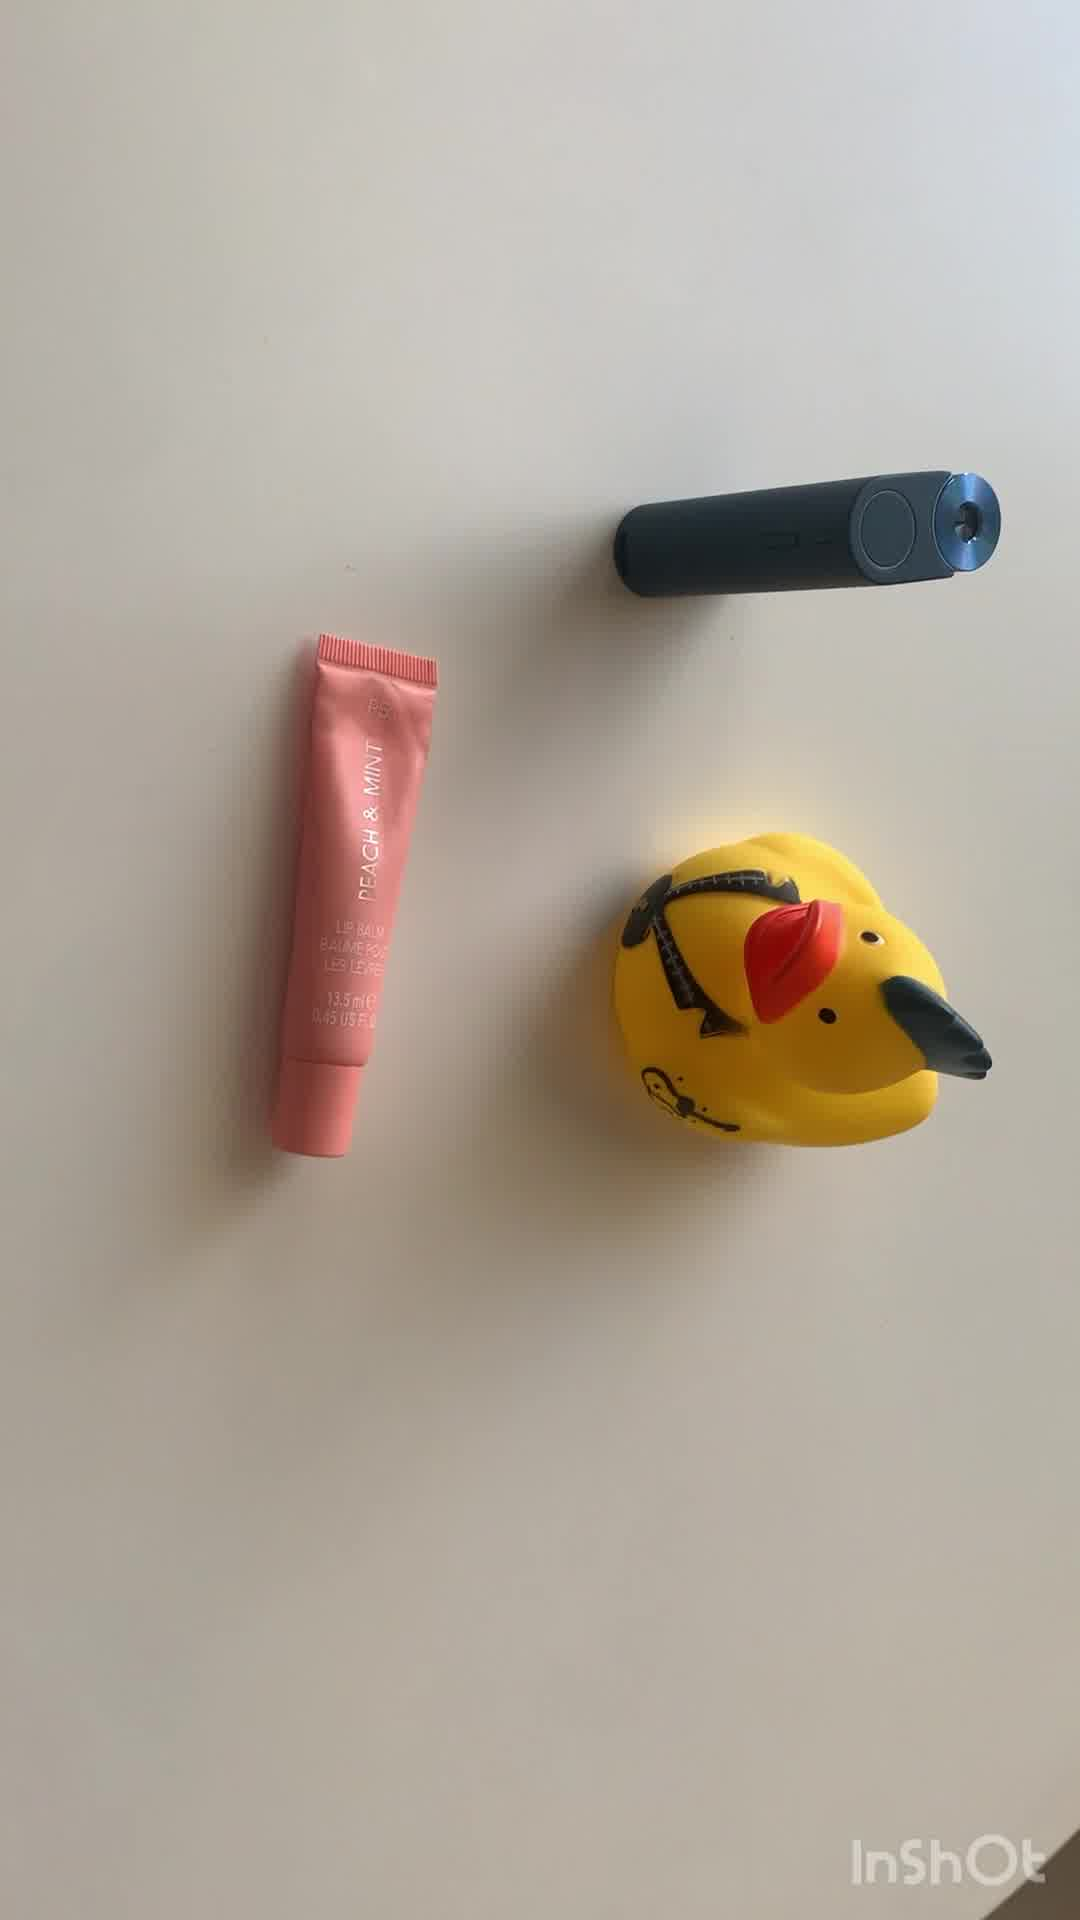duck: (603, 831, 1004, 1162)
glo: (611, 464, 1004, 603)
lip balm: (264, 622, 440, 1156)
